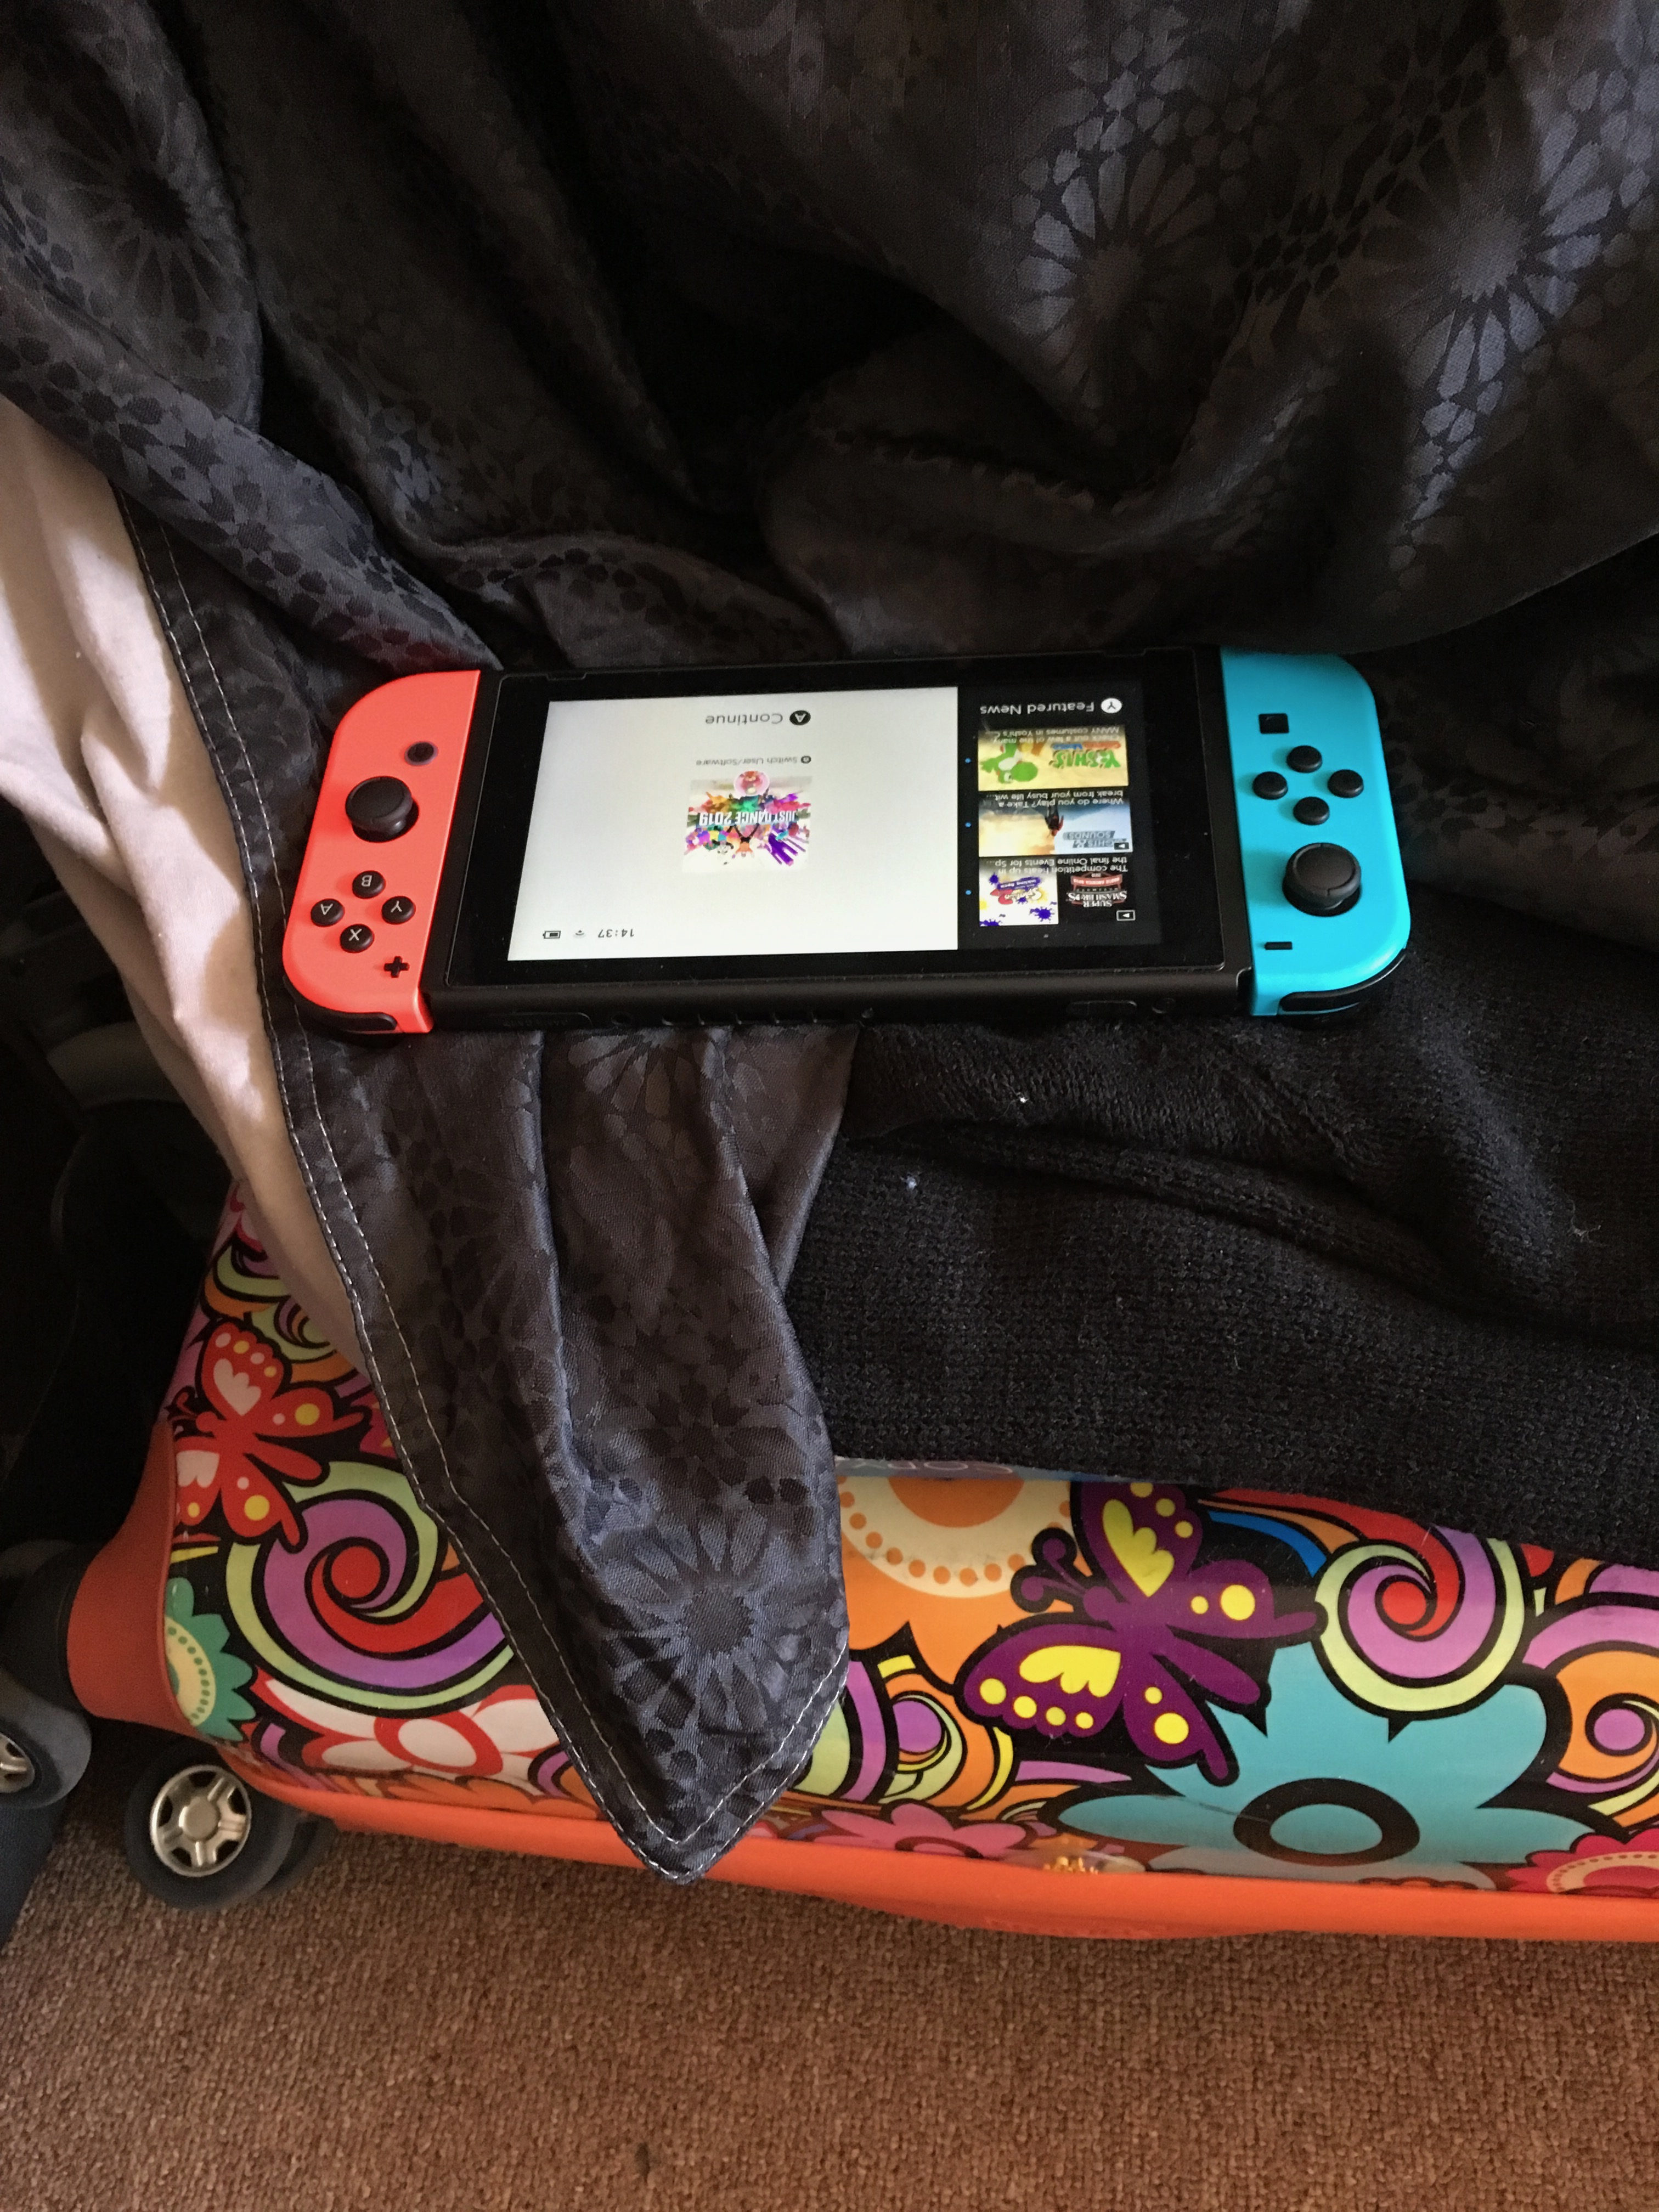NintendoSwitch: (260, 634, 1432, 1052)
